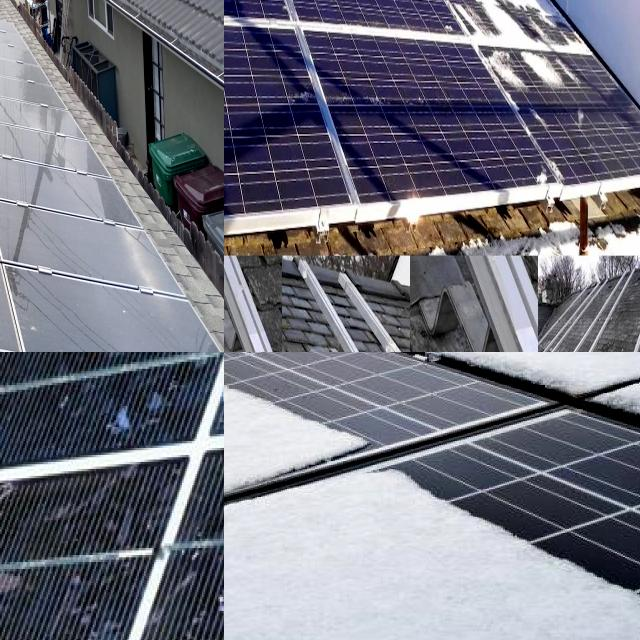dust: (118, 220, 170, 328), (0, 233, 50, 341), (0, 289, 57, 352), (0, 201, 17, 277)
panel: (254, 388, 426, 493), (376, 462, 544, 556), (517, 524, 640, 638), (370, 352, 555, 402), (224, 478, 356, 548), (224, 352, 355, 418), (339, 352, 501, 392), (571, 357, 640, 441), (499, 352, 640, 390), (301, 0, 405, 49), (401, 352, 640, 373), (224, 352, 346, 393), (490, 42, 573, 98), (224, 352, 298, 411), (468, 0, 551, 38), (224, 0, 278, 56), (224, 352, 377, 370), (224, 352, 280, 398), (224, 352, 285, 391), (423, 0, 506, 25), (528, 163, 576, 206), (224, 352, 277, 385), (224, 0, 287, 17), (224, 0, 242, 52), (224, 352, 261, 374)
